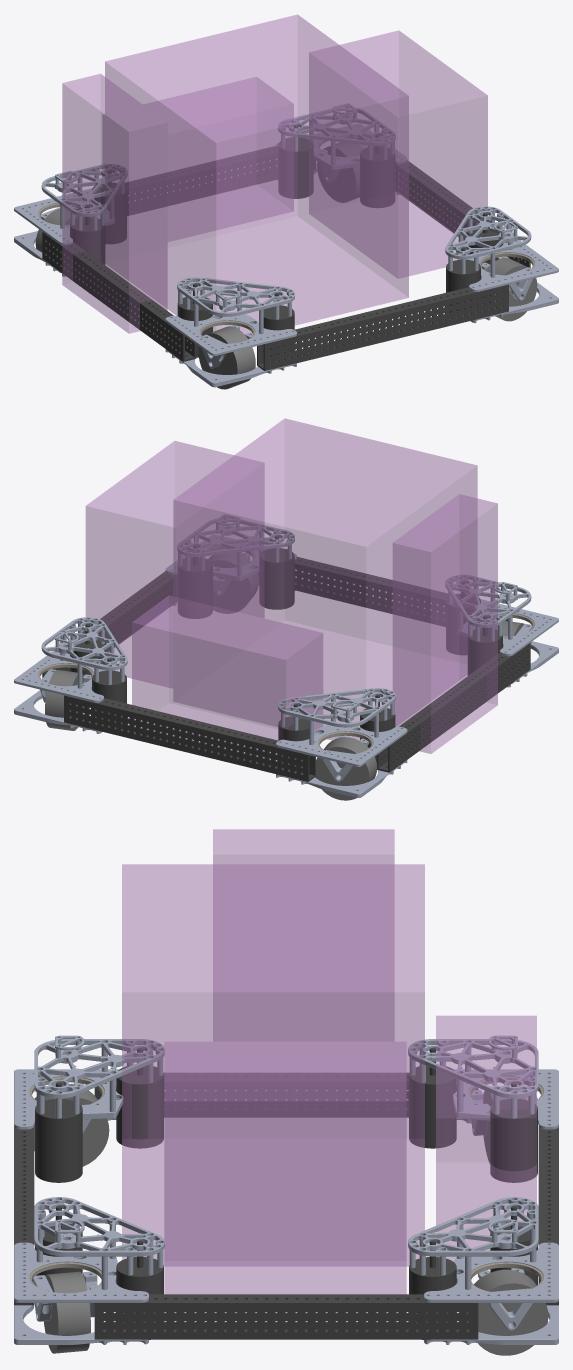
3 views of the same model, one above another, from view 1: azimuth 30°, elevation 25°; view 2: azimuth 150°, elevation 25°; view 3: azimuth 270°, elevation 25° (orthographic). The views are drawn at different scales.
Visible parts, largest first — view 1: Clearance Box (×4), Tube 2"x1"x19" (×4), MK4i Master Part V2_Default Falcon 500 Config (×11), {Simplified} Falcon 500 (×7), Part 1 (×3); view 2: Clearance Box (×4), Tube 2"x1"x19" (×4), MK4i Master Part V2_Default Falcon 500 Config (×11), {Simplified} Falcon 500 (×7), Part 1 (×3); view 3: Clearance Box (×4), Tube 2"x1"x19" (×4), MK4i Master Part V2_Default Falcon 500 Config (×10), {Simplified} Falcon 500 (×6), Part 1 (×3), Wheel Mount A.
Part boxes in pixels (x1,y1,x2,y2): Clearance Box (×4): (62, 14, 487, 334); Tube 2"x1"x19" (×4): (42, 146, 530, 370); MK4i Master Part V2_Default Falcon 500 Config (×11): (14, 107, 558, 387); {Simplified} Falcon 500 (×7): (70, 125, 480, 358); Part 1 (×3): (198, 142, 537, 389); Clearance Box (×4): (85, 418, 497, 762); Tube 2"x1"x19" (×4): (42, 557, 530, 781); MK4i Master Part V2_Default Falcon 500 Config (×11): (14, 518, 558, 797); {Simplified} Falcon 500 (×7): (92, 535, 502, 769); Part 1 (×3): (45, 553, 377, 800); Clearance Box (×4): (122, 829, 536, 1312); Tube 2"x1"x19" (×4): (14, 1072, 558, 1339); MK4i Master Part V2_Default Falcon 500 Config (×10): (14, 1039, 558, 1344); {Simplified} Falcon 500 (×6): (35, 1048, 537, 1339); Part 1 (×3): (34, 1084, 548, 1355); Wheel Mount A: (488, 1288, 533, 1330).
Size of the model in its own units: 0.7072 by 0.4234 by 0.6858.
